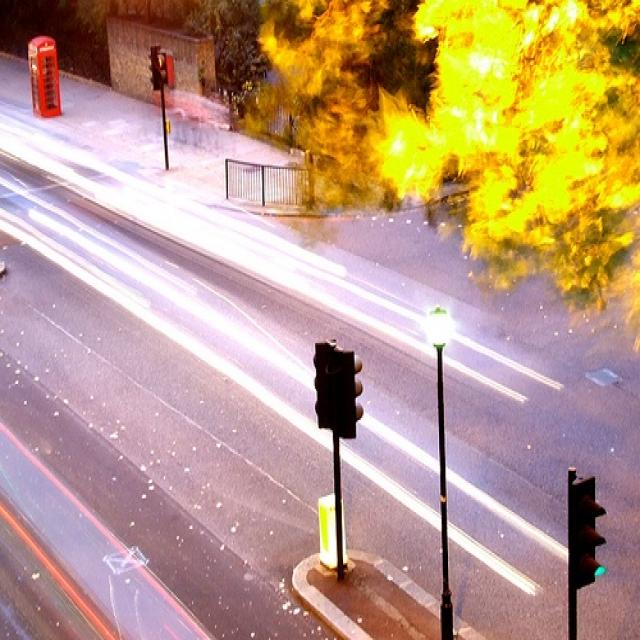pole: (431, 346, 461, 638), (330, 434, 346, 580), (156, 87, 170, 167)
